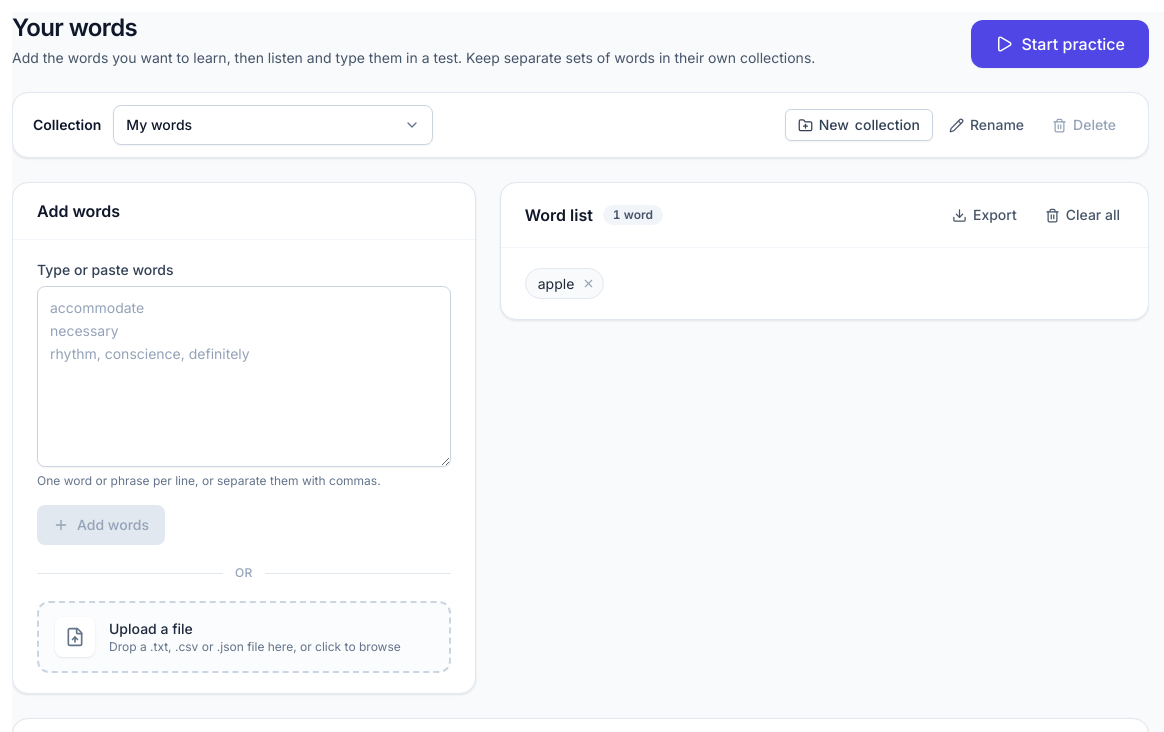
Test: WordLibrary › previews how many words are new while typing
The image size is (1164, 732).
Type "apple, banana, cherry" into the text box labelled "Type or paste words" at (244, 377), box [37,286,451,467]
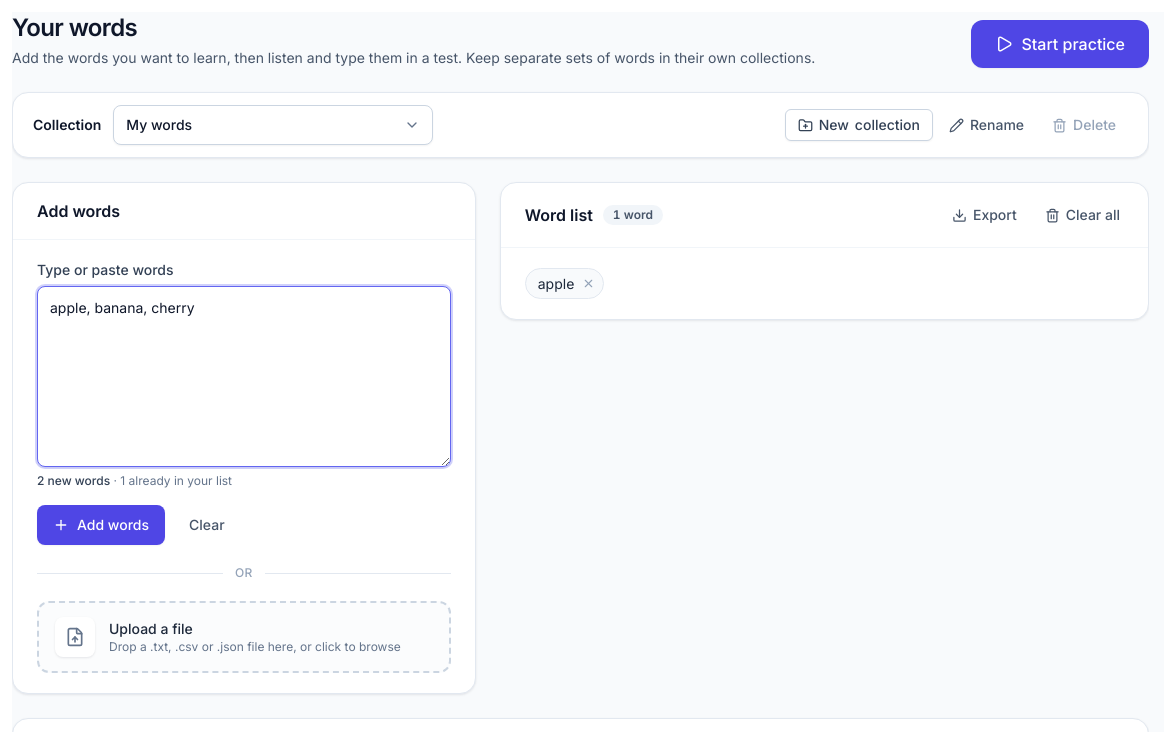
Check: the text "2 new words" is shown, box [37,473,110,488]
Check: the text "2 new words · 1 already in your list" is shown, box [37,473,232,488]
